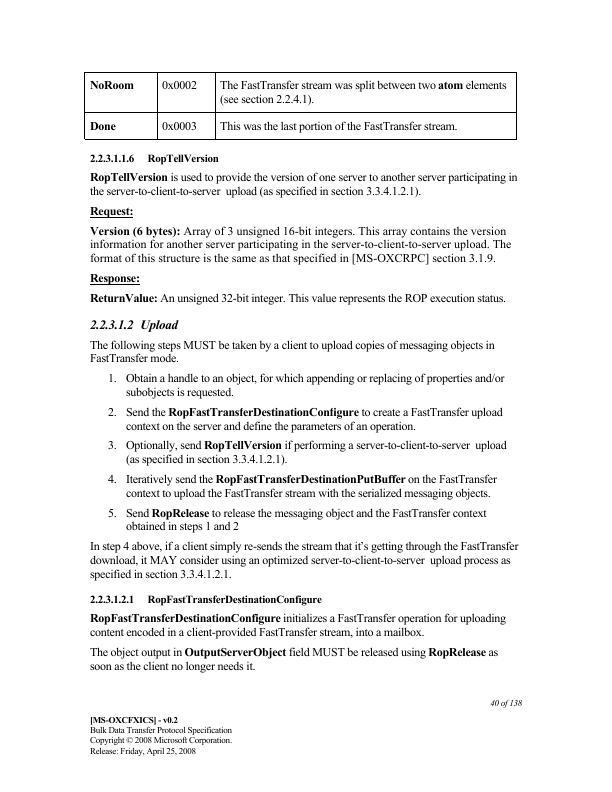table: (84, 72, 518, 142)
text: (86, 222, 514, 266), (86, 538, 521, 579), (87, 168, 521, 199), (103, 437, 508, 468), (86, 612, 509, 640), (103, 370, 509, 399), (87, 336, 496, 364), (104, 407, 506, 435), (87, 645, 501, 671), (103, 474, 501, 501), (104, 506, 491, 533), (86, 291, 511, 307), (83, 713, 236, 757), (84, 592, 324, 607), (83, 148, 222, 167), (87, 316, 186, 333), (87, 202, 139, 222), (86, 271, 145, 287), (484, 698, 529, 713)
